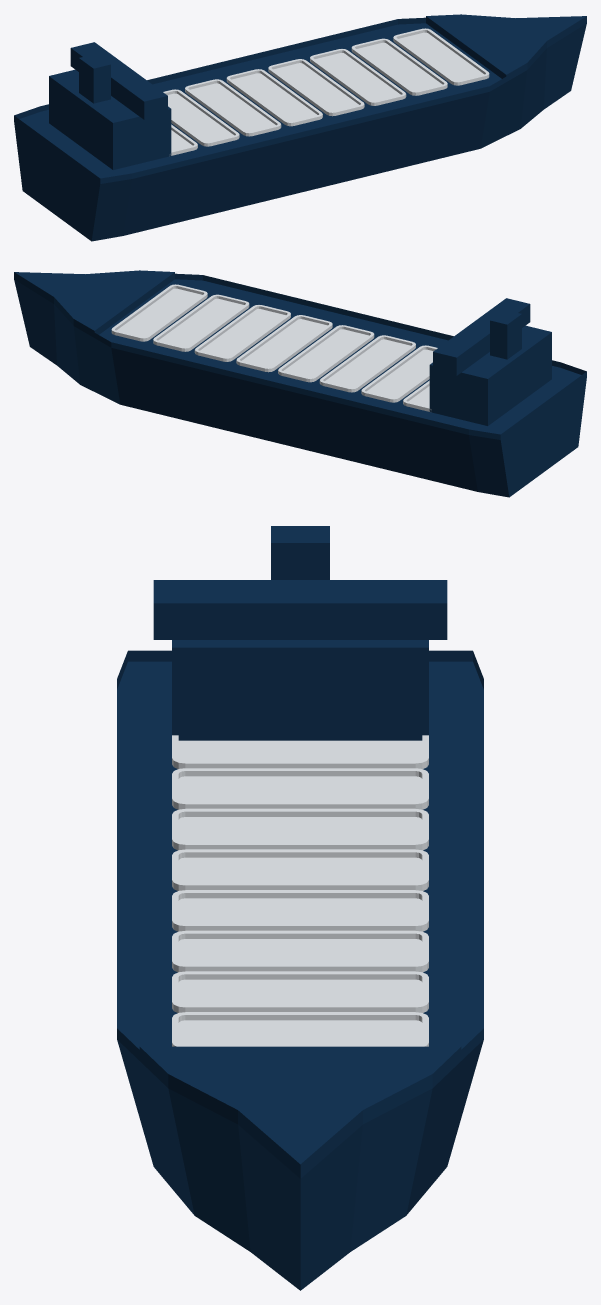
Rendered from vessel-hold-08.glb.
3 renders of one model, top to bottom at view 1: azimuth 30°, elevation 25°; view 2: azimuth 150°, elevation 25°; view 3: azimuth 270°, elevation 25°, orthographic. The views are drawn at different scales.
Visible parts, largest first — view 1: hull, superstructure, detail_forecastle, detail_bulwark, hold_06, hold_01, hold_02, hold_05, hold_04, hold_03, hold_07, detail_funnel (+1 smaller); view 2: hull, superstructure, detail_forecastle, detail_bulwark, hold_06, hold_01, hold_02, hold_05, hold_04, hold_03, hold_07, detail_funnel (+1 smaller); view 3: hull, superstructure, detail_forecastle, hold_03, hold_06, hold_02, hold_05, hold_04, hold_07, hold_01, hold_08, detail_bulwark (+1 smaller).
Boxes of the visible parts, left/top/right/bottom form: hull: left=14, top=23, right=586, bottom=241; superstructure: left=49, top=42, right=171, bottom=169; detail_forecastle: left=426, top=14, right=586, bottom=81; detail_bulwark: left=14, top=17, right=586, bottom=183; hold_06: left=185, top=79, right=281, bottom=136; hold_01: left=393, top=28, right=489, bottom=85; hold_02: left=351, top=38, right=447, bottom=95; hold_05: left=226, top=69, right=322, bottom=126; hold_04: left=268, top=59, right=364, bottom=116; hold_03: left=310, top=49, right=406, bottom=105; hold_07: left=163, top=89, right=239, bottom=146; detail_funnel: left=79, top=53, right=110, bottom=103; hull: left=14, top=279, right=586, bottom=497; superstructure: left=429, top=298, right=551, bottom=425; detail_forecastle: left=14, top=270, right=174, bottom=337; detail_bulwark: left=14, top=273, right=586, bottom=439; hold_06: left=319, top=335, right=415, bottom=392; hold_01: left=111, top=284, right=207, bottom=341; hold_02: left=153, top=294, right=249, bottom=351; hold_05: left=278, top=325, right=374, bottom=382; hold_04: left=236, top=315, right=332, bottom=372; hold_03: left=194, top=305, right=290, bottom=361; hold_07: left=361, top=345, right=437, bottom=402; detail_funnel: left=490, top=309, right=521, bottom=359; hull: left=117, top=661, right=483, bottom=1290; superstructure: left=153, top=580, right=447, bottom=740; detail_forecastle: left=139, top=1046, right=461, bottom=1176; hold_03: left=172, top=930, right=428, bottom=972; hold_06: left=172, top=808, right=428, bottom=850; hold_02: left=172, top=971, right=428, bottom=1012; hold_05: left=172, top=849, right=428, bottom=890; hold_04: left=172, top=890, right=428, bottom=931; hold_07: left=172, top=768, right=428, bottom=809; hold_01: left=172, top=1012, right=428, bottom=1046; hold_08: left=172, top=735, right=428, bottom=768; detail_bulwark: left=117, top=650, right=483, bottom=1178.
Bounding box in the file's own units: 10 × 2.63 × 3.
